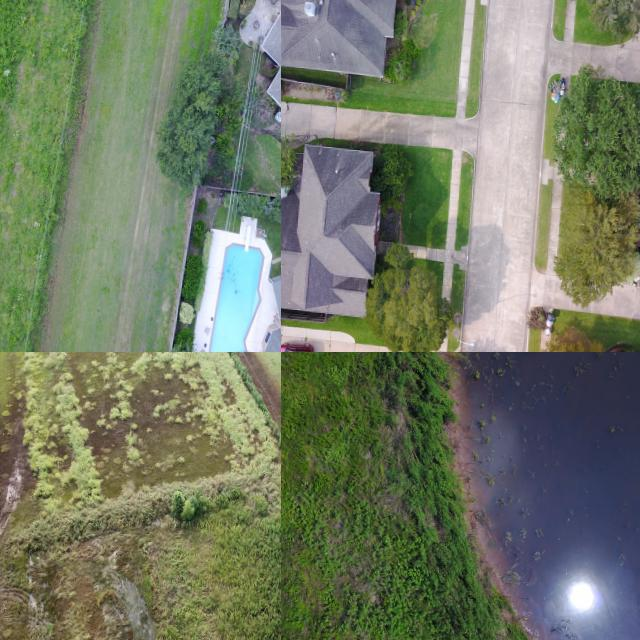fire: (455, 352, 640, 640)
